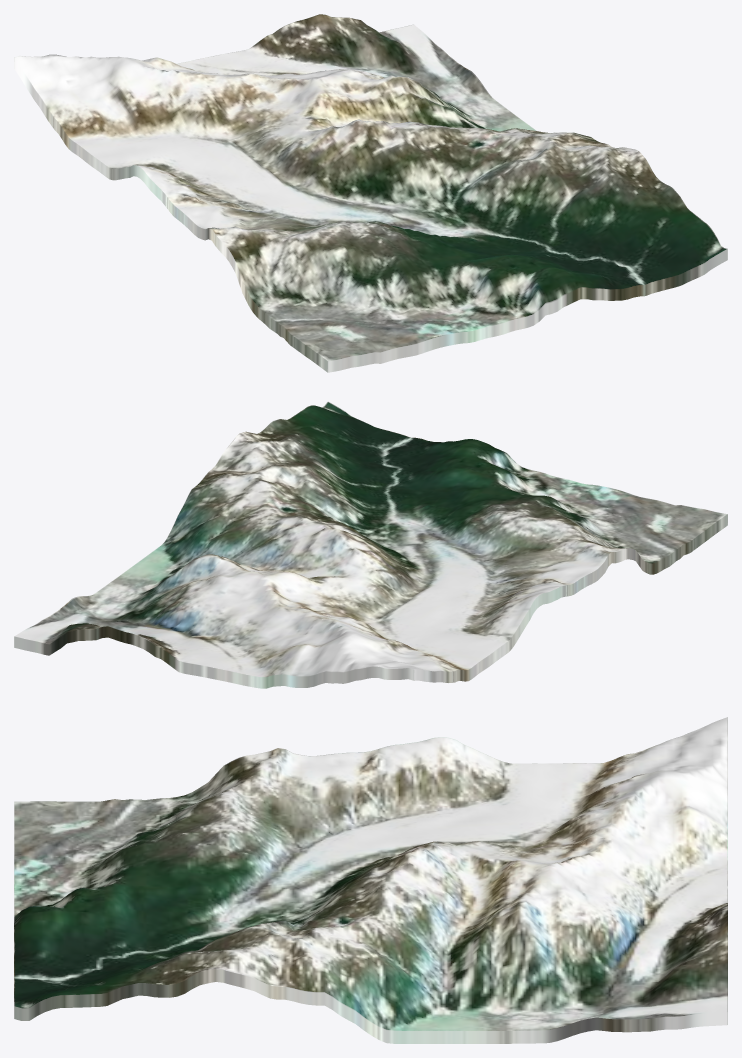
The picture shows the model from 3 angles, top to bottom: view 1: azimuth 30°, elevation 25°; view 2: azimuth 150°, elevation 25°; view 3: azimuth 270°, elevation 25°; orthographic projection. The views are drawn at different scales.
Visible parts, largest first — view 1: tile; view 2: tile; view 3: tile.
Part boxes in pixels (bbox=[...]): tile: bbox=[14, 14, 727, 372]; tile: bbox=[14, 401, 727, 688]; tile: bbox=[14, 717, 727, 1043].
Bounding box in the file's own units: 8100 × 1790 × 11010.
1 material, 1 textured.
